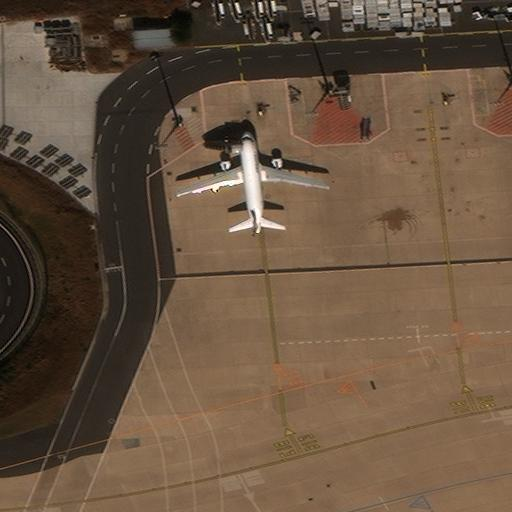Medium Civil Transport: (176, 131, 326, 233)
